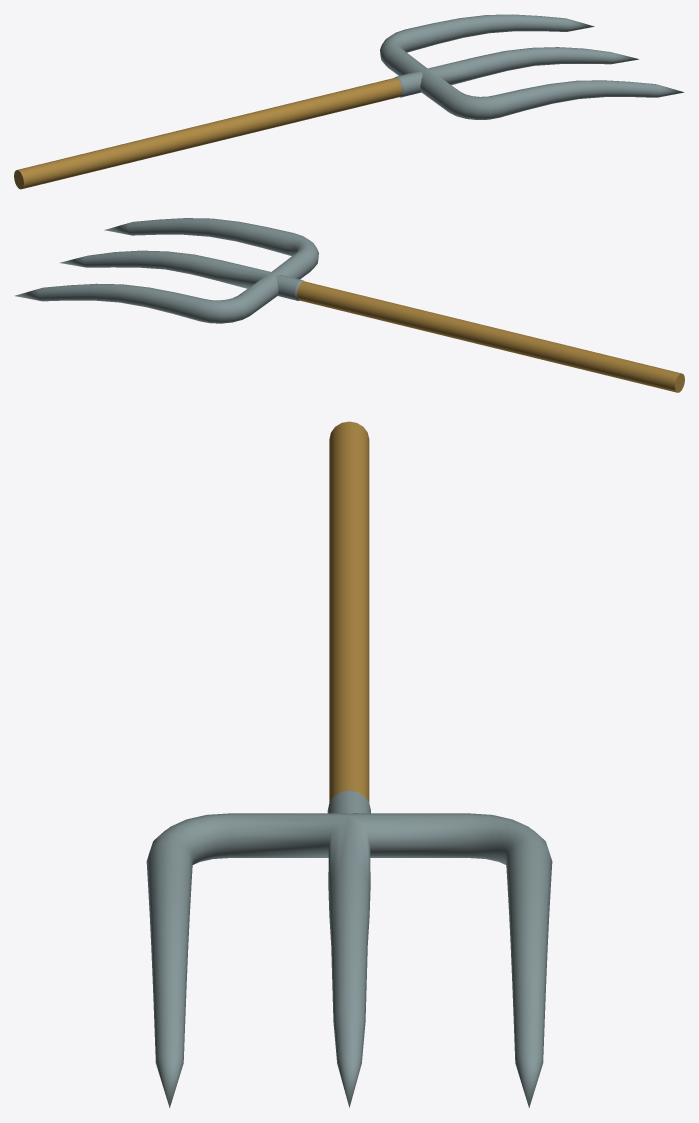
Rendered from Hayfork.fbx.
3 views of the same model, one above another, from view 1: azimuth 30°, elevation 25°; view 2: azimuth 150°, elevation 25°; view 3: azimuth 270°, elevation 25° (orthographic). The views are drawn at different scales.
Parts seen in each view (by area): view 1: Hayfork; view 2: Hayfork; view 3: Hayfork.
Boxes of the visible parts, x1,y1,x2,y2 form: Hayfork: (14, 14, 684, 189); Hayfork: (14, 218, 684, 392); Hayfork: (146, 421, 552, 1107).
Size of the model in its own units: 2.32 by 0.1506 by 0.6571.
